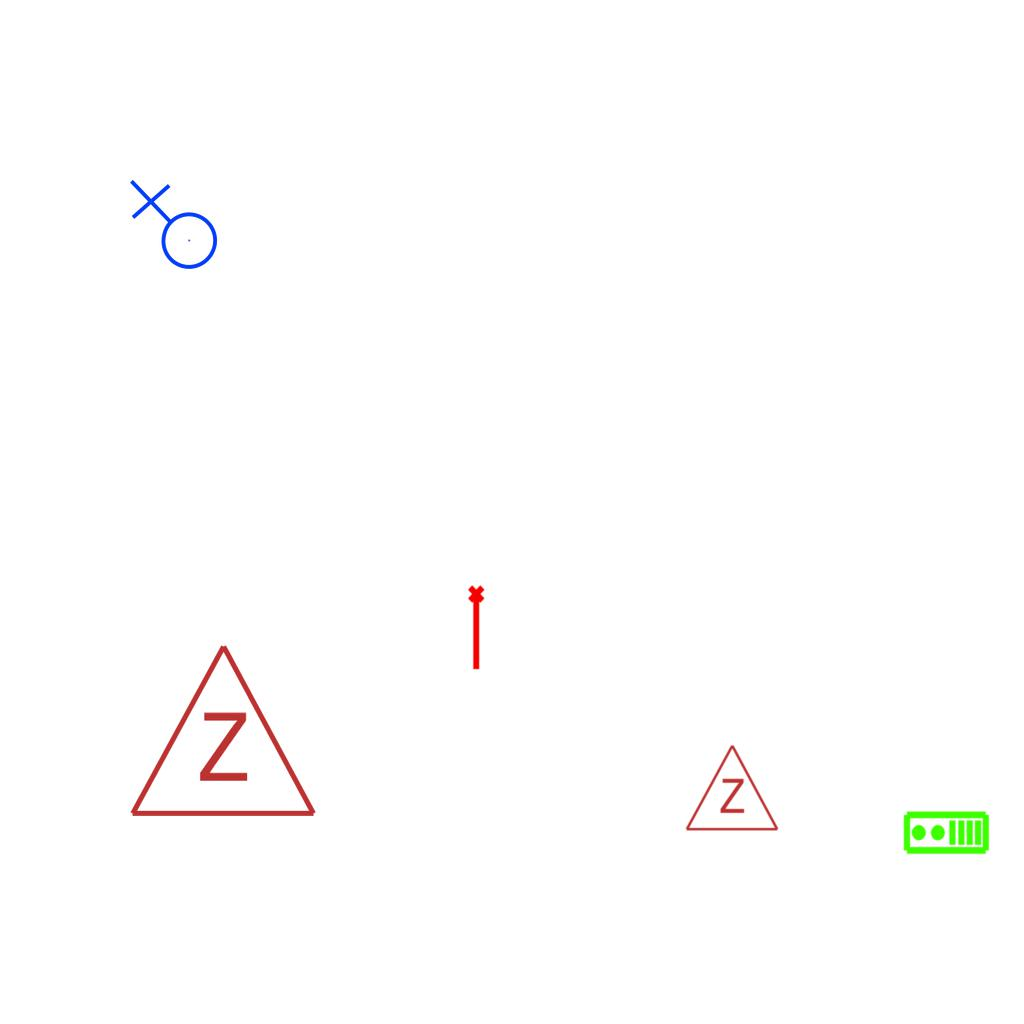ASR_Ansaugoeffnung: (466, 584, 489, 672)
Elektroanschluss_allgemein_230V_Geraeteanschlussdose_230V: (125, 179, 219, 278)
Gegensprechanlage_mit_Video: (902, 810, 990, 857)
Zimmersignalleuchte: (123, 631, 319, 831), (682, 738, 780, 838)
